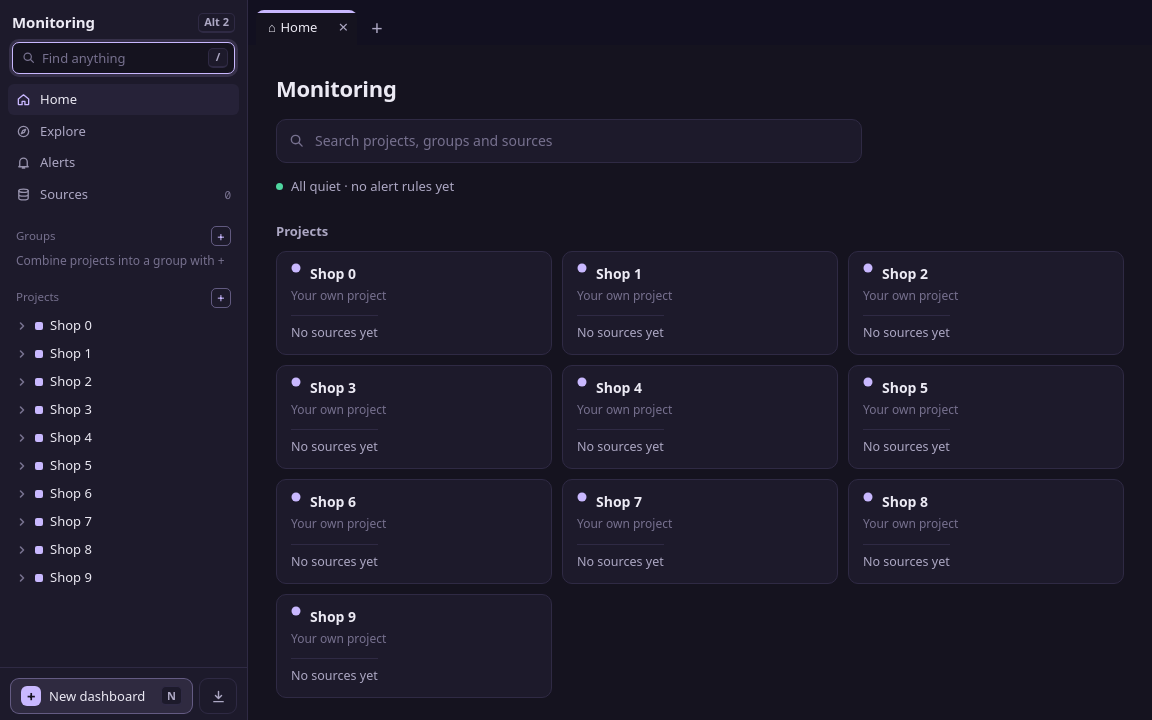
Test case: Monitoring sidebar › find says nothing while it is empty
Expected: the list item "Shop 0" is shown, [17, 316, 92, 334]
More than eight match: eight are listed and the rest are counted.
Type "shop" into the dropdown labelled "Find anything" at (122, 58), box [42, 43, 201, 73]
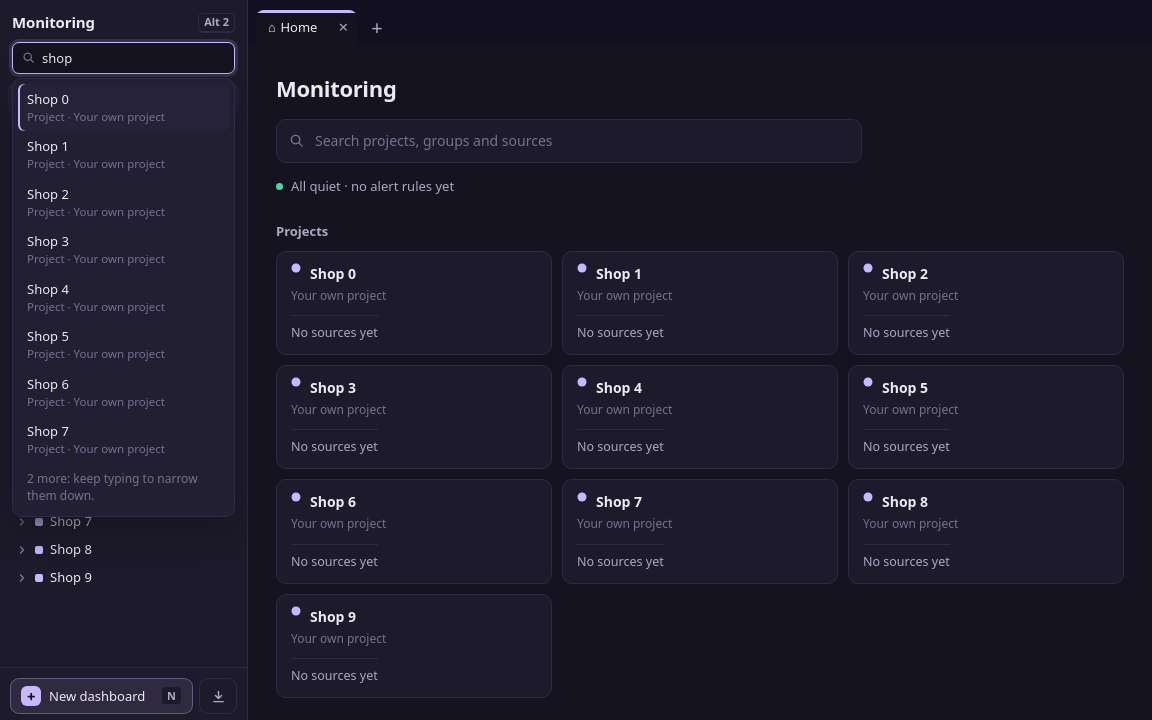
Now the number of options is 8
Now the message reads "2 more: keep typing to narrow them down.", box [27, 470, 198, 504]
A page is found by name, its line says what it is once.
Replace the text in the dropdown named "Find anything" with "explo" at (135, 58), box [42, 43, 228, 73]
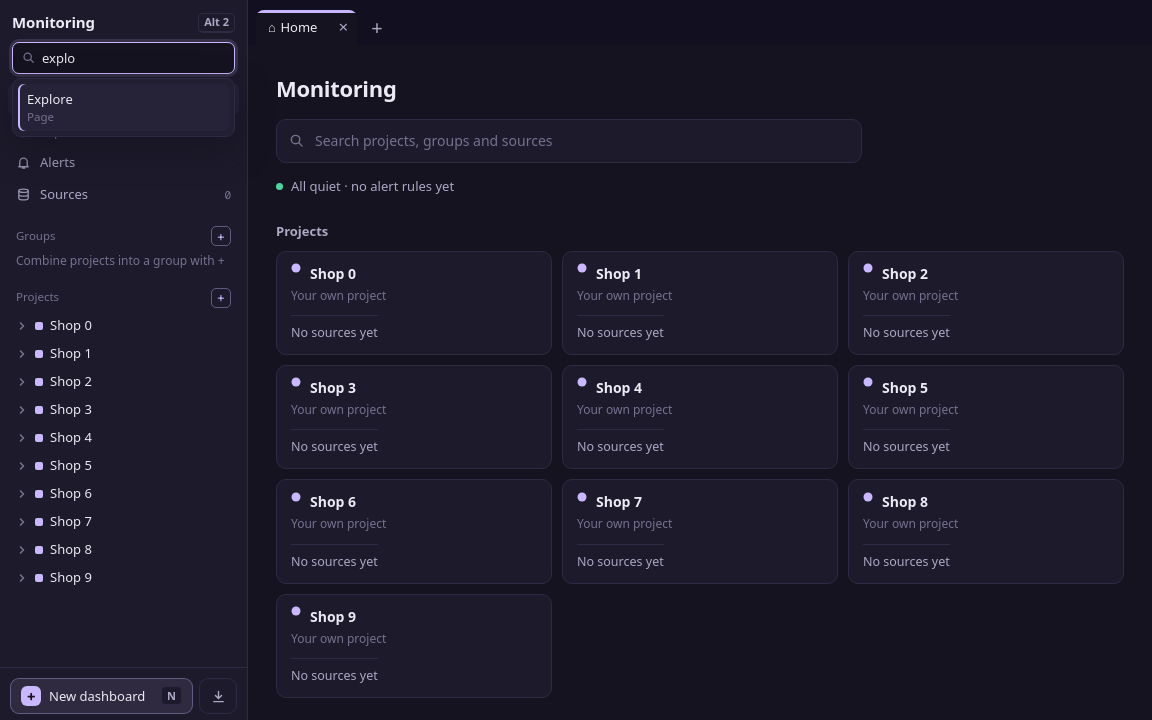
Now the option reads "Explore Page", box [18, 84, 229, 131]
Replace the text in the dropdown named "Find anything" with "zzz" at (135, 58), box [42, 43, 228, 73]
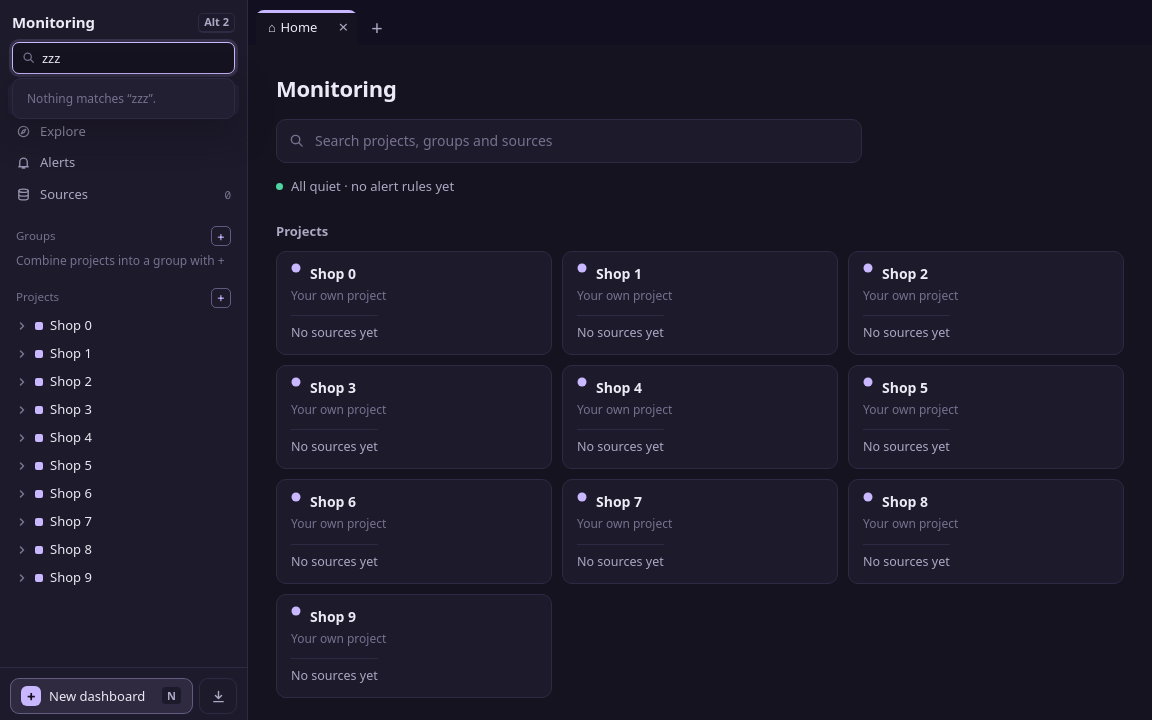
Now the message reads "Nothing matches “zzz”.", box [27, 90, 156, 107]
Clear the dropdown named "Find anything" at (135, 58), box [42, 43, 228, 73]
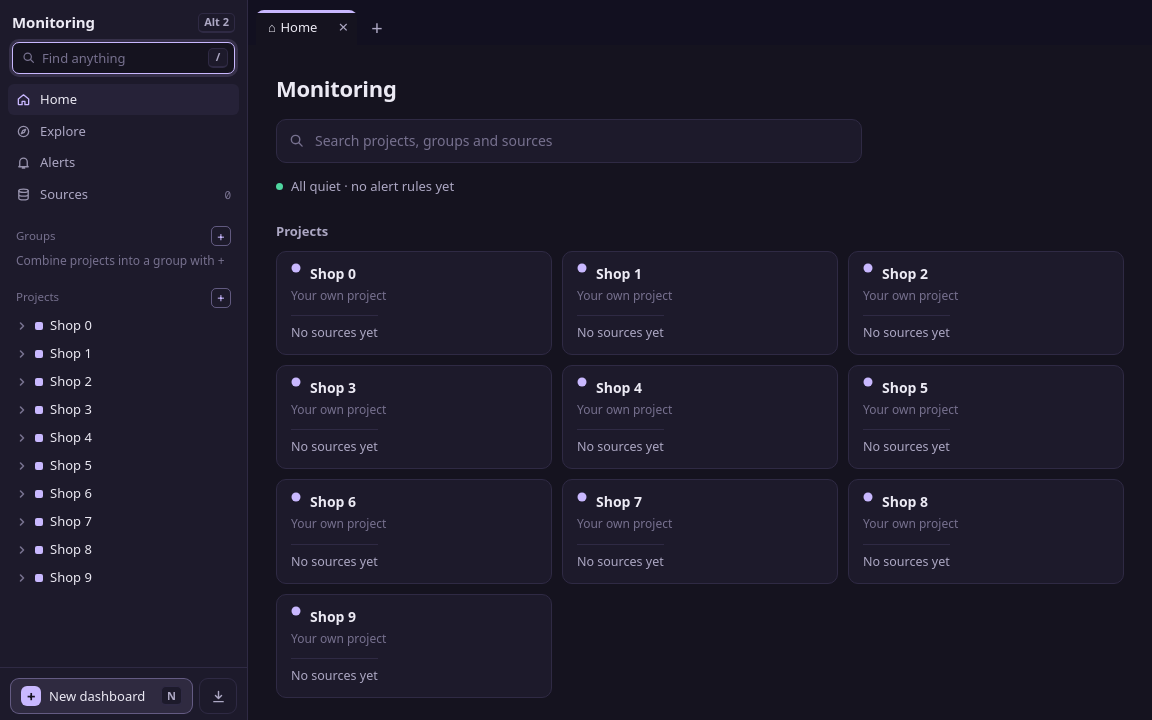
Now the message "Nothing matches “zzz”." is gone
